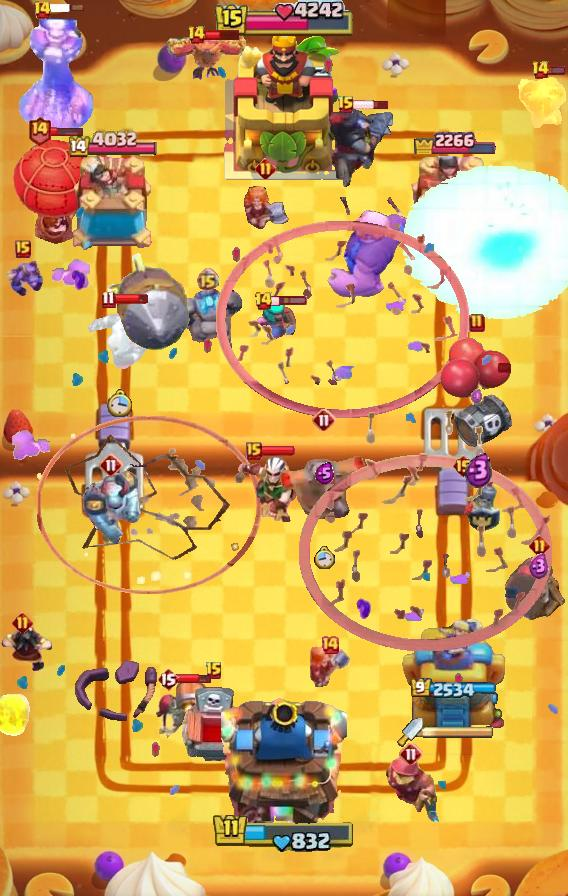balloon: (325, 208, 419, 300)
bar: (402, 615, 507, 731)
cannon-cart: (10, 135, 100, 245)
clock: (212, 812, 356, 854), (213, 0, 355, 40)
dark-prince: (276, 437, 372, 527)
electro-dragon: (17, 11, 95, 139)
electro-spirit: (465, 452, 493, 488), (529, 552, 549, 579), (315, 462, 334, 486), (471, 388, 483, 403)
elixir: (107, 389, 133, 417), (314, 546, 335, 570)
elixir-golem-mid: (179, 686, 249, 772)
elixir-golem-small: (80, 470, 142, 548)
emote: (203, 27, 241, 40), (176, 671, 212, 684), (354, 99, 391, 111), (271, 295, 308, 307), (113, 293, 149, 305), (260, 445, 296, 457), (48, 125, 83, 137), (49, 3, 85, 13), (546, 64, 565, 76)
fireball: (381, 755, 441, 827)
golden-knight: (165, 32, 247, 82)
guard: (37, 416, 261, 595)
hog-rider: (240, 182, 290, 232), (308, 644, 352, 694)
inferno-dragon: (320, 103, 396, 189)
king-tower: (222, 31, 346, 181), (221, 690, 347, 826)
king-tower-bar: (423, 725, 495, 739)
knight: (155, 676, 209, 740)
lumberjack: (0, 622, 54, 674)
mega-knight: (400, 161, 568, 322)
mortar-evolution: (88, 303, 152, 375)
princess: (457, 469, 501, 533)
queen-tower: (68, 156, 160, 256), (407, 156, 499, 256)
royal-delivery: (1, 259, 45, 297)
royal-giant-evolution: (500, 553, 568, 623)
royal-recruit-evolution: (439, 336, 515, 448)
selected: (68, 130, 159, 160), (412, 126, 497, 154), (411, 678, 498, 700)
skeleton-barrel: (299, 408, 553, 652), (216, 196, 469, 420)
skeleton-dragon: (514, 75, 568, 129)
skeleton-king: (235, 456, 301, 522)
text: (28, 114, 53, 145), (312, 408, 336, 432), (99, 453, 123, 477), (399, 742, 423, 766), (196, 268, 219, 292), (452, 454, 475, 478), (157, 667, 179, 691), (256, 157, 277, 179), (529, 535, 550, 557), (11, 611, 32, 632), (320, 635, 340, 655), (33, 0, 52, 20), (186, 25, 205, 45), (530, 60, 549, 80), (255, 291, 274, 311), (337, 95, 355, 115), (205, 661, 223, 681), (469, 313, 485, 333), (15, 240, 31, 258), (246, 442, 262, 460), (101, 290, 115, 309)
valkyrie: (0, 689, 36, 745)
valkyrie-evolution: (171, 284, 243, 352)
witch: (255, 298, 297, 344)
x-bow: (100, 253, 191, 352)
